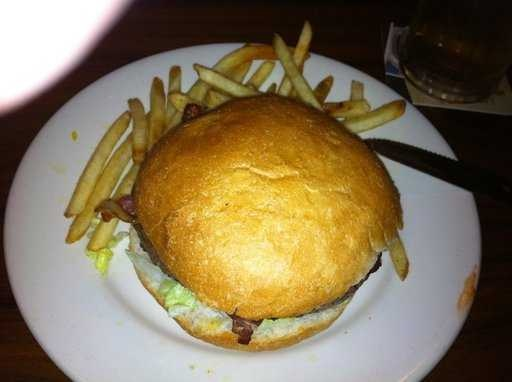hamburger: (127, 109, 394, 347)
